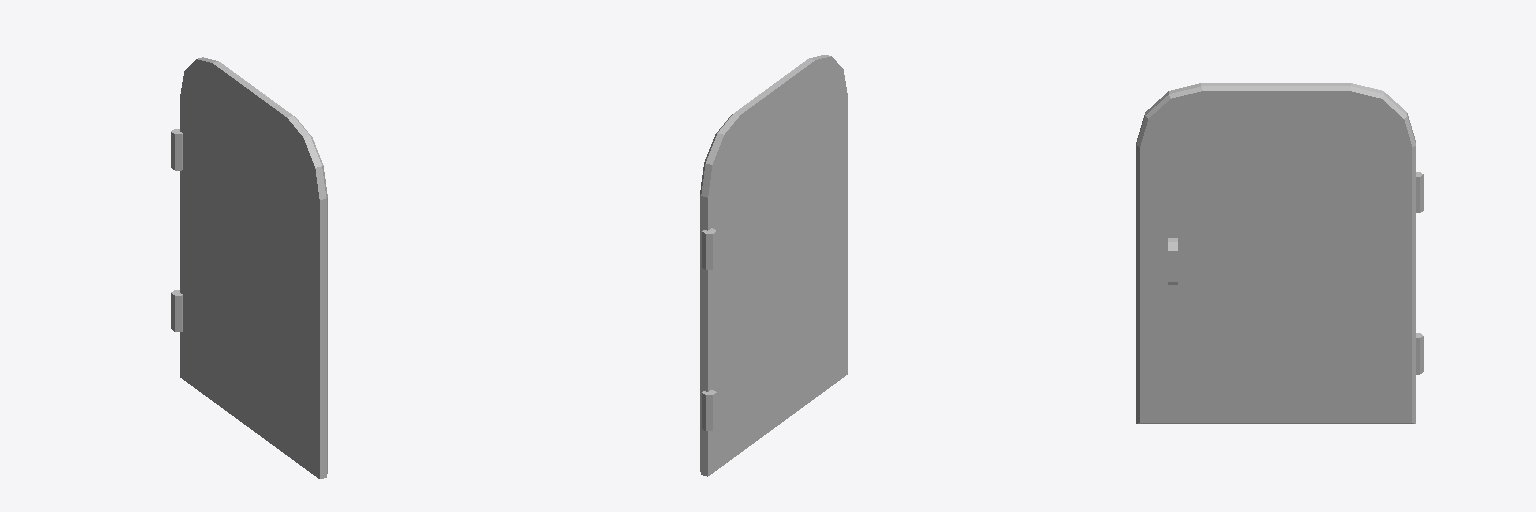
File: FridgeDoor.obj
The picture shows the model from 3 angles: view 1: azimuth 30°, elevation 25°; view 2: azimuth 150°, elevation 25°; view 3: azimuth 270°, elevation 25°; orthographic projection.
Visible parts, largest first — view 1: FridgeDoor_Cylinder.001; view 2: FridgeDoor_Cylinder.001; view 3: FridgeDoor_Cylinder.001.
Part boxes in pixels (left/top/right/bottom): FridgeDoor_Cylinder.001: left=171, top=57, right=327, bottom=478; FridgeDoor_Cylinder.001: left=700, top=55, right=847, bottom=476; FridgeDoor_Cylinder.001: left=1136, top=83, right=1423, bottom=423.
Size of the model in its own units: 0.3717 by 4 by 3.08.